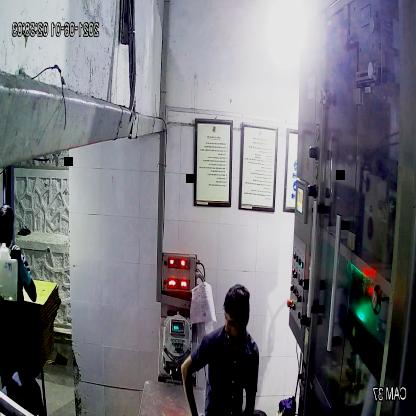no_goggles: (222, 310, 252, 334)
